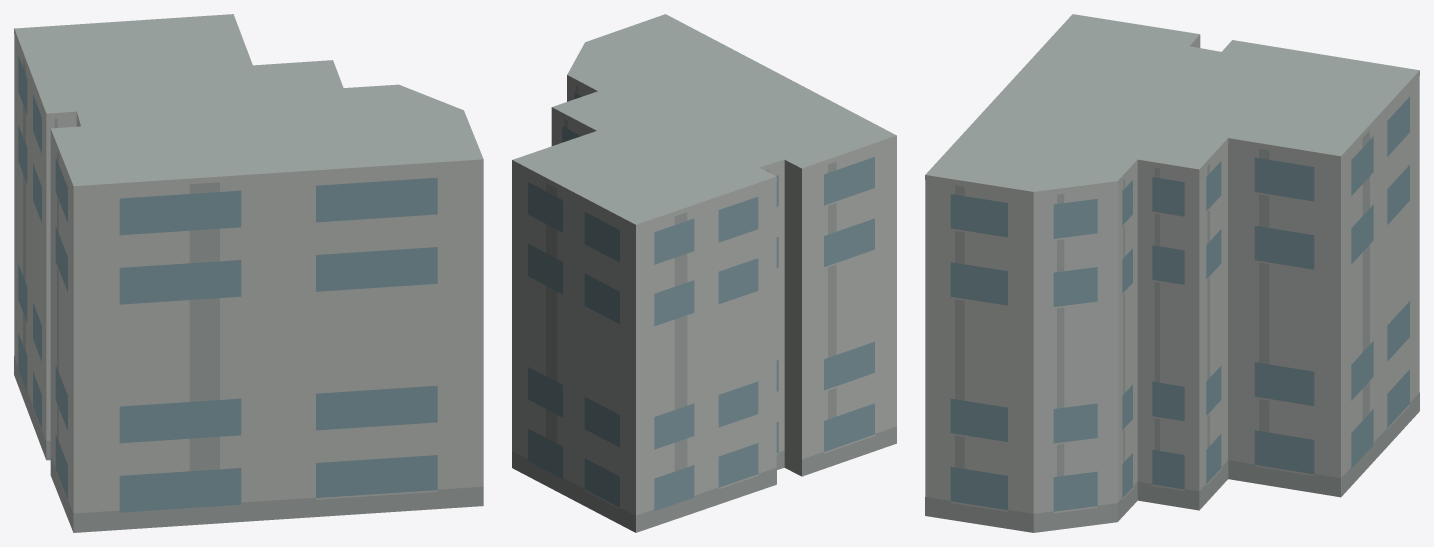
The model's file is survey-upis-32981093.glb.
3 views of the same model, side by side, from view 1: azimuth 30°, elevation 25°; view 2: azimuth 150°, elevation 25°; view 3: azimuth 270°, elevation 25° (orthographic). The views are drawn at different scales.
Visible parts, largest first — view 1: survey-upis-32981093.tmp; view 2: survey-upis-32981093.tmp; view 3: survey-upis-32981093.tmp.
Part boxes in pixels (bbox=[...]): survey-upis-32981093.tmp: bbox=[14, 14, 483, 532]; survey-upis-32981093.tmp: bbox=[512, 14, 896, 532]; survey-upis-32981093.tmp: bbox=[925, 14, 1419, 532].
Size of the model in its own units: 16.68 by 14.9 by 19.6.
